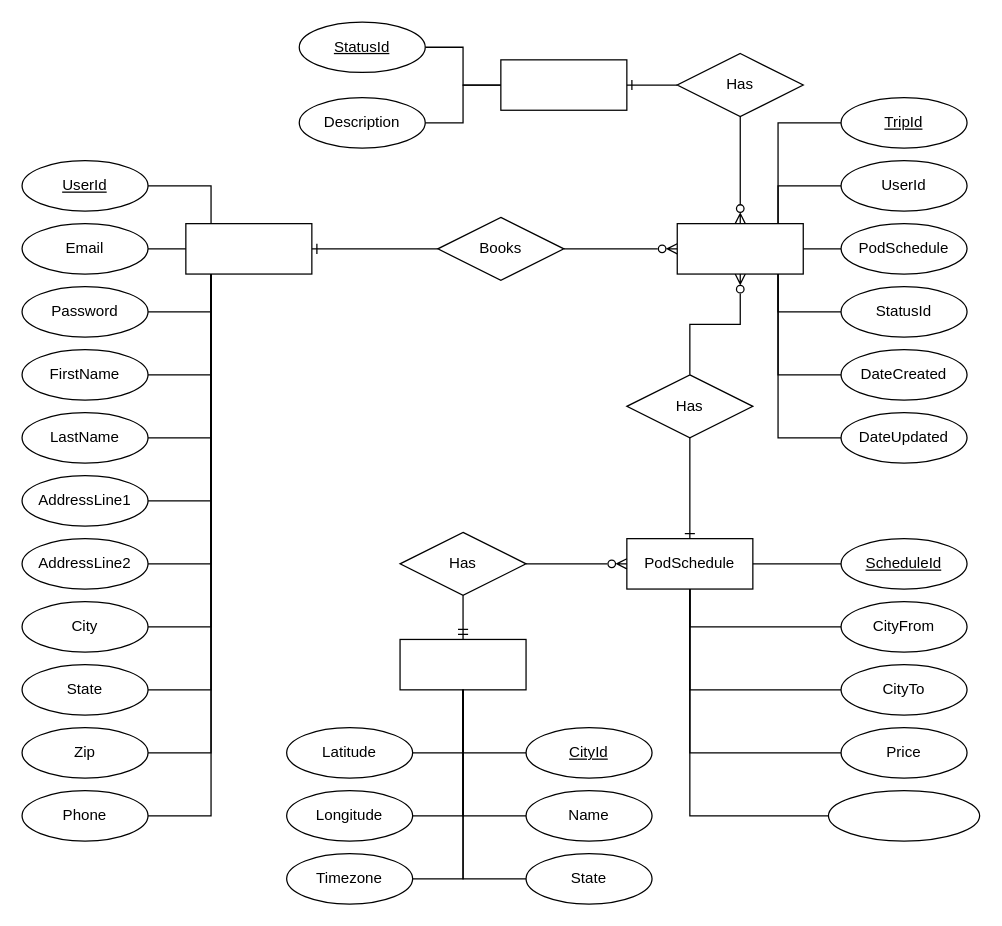
The diagram is 1002 pixels wide and 926 high, and some of its shapes have lost their labels. The shapes that lost their labels are listed below. From the top down, each one's centre as x and y in pixels, then its label:
(563,84): ref_Status
(248,248): User
(739,248): Trip
(462,664): Cities
(903,815): DepartureWindow
